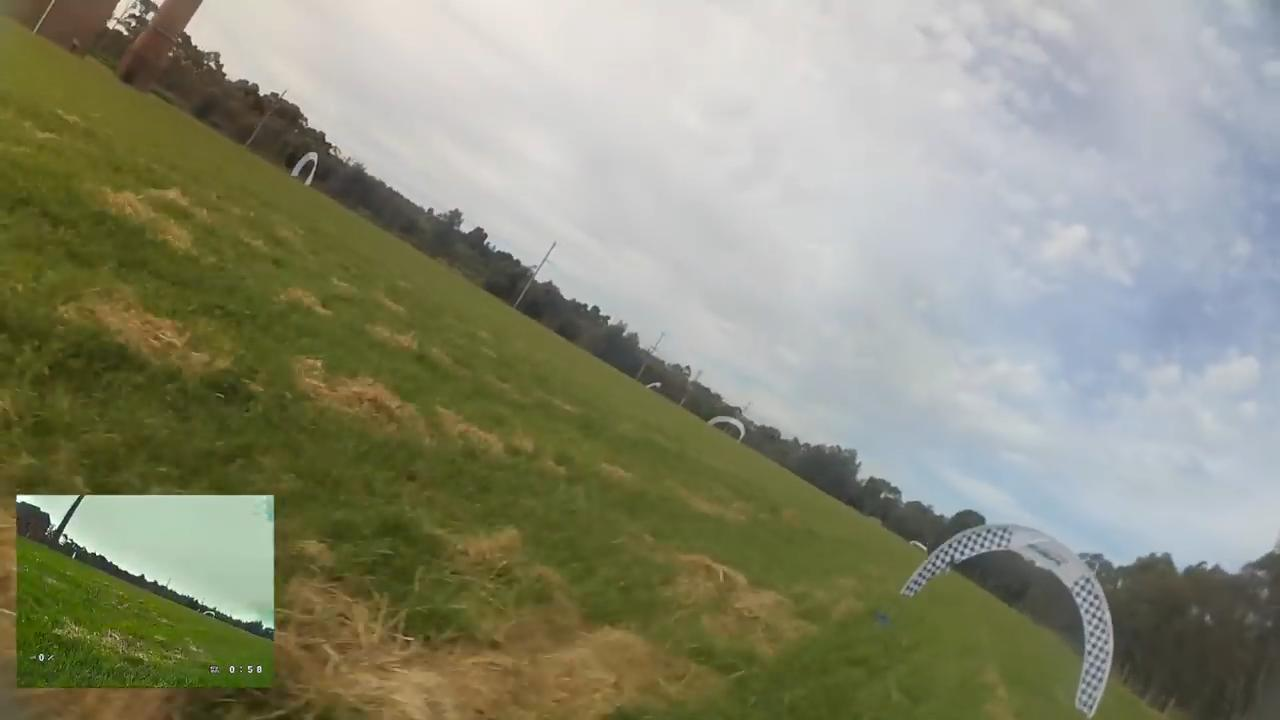gate: (895, 519, 1116, 719), (710, 410, 754, 448)
